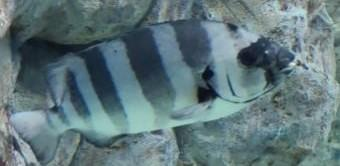fish: (9, 20, 296, 165)
